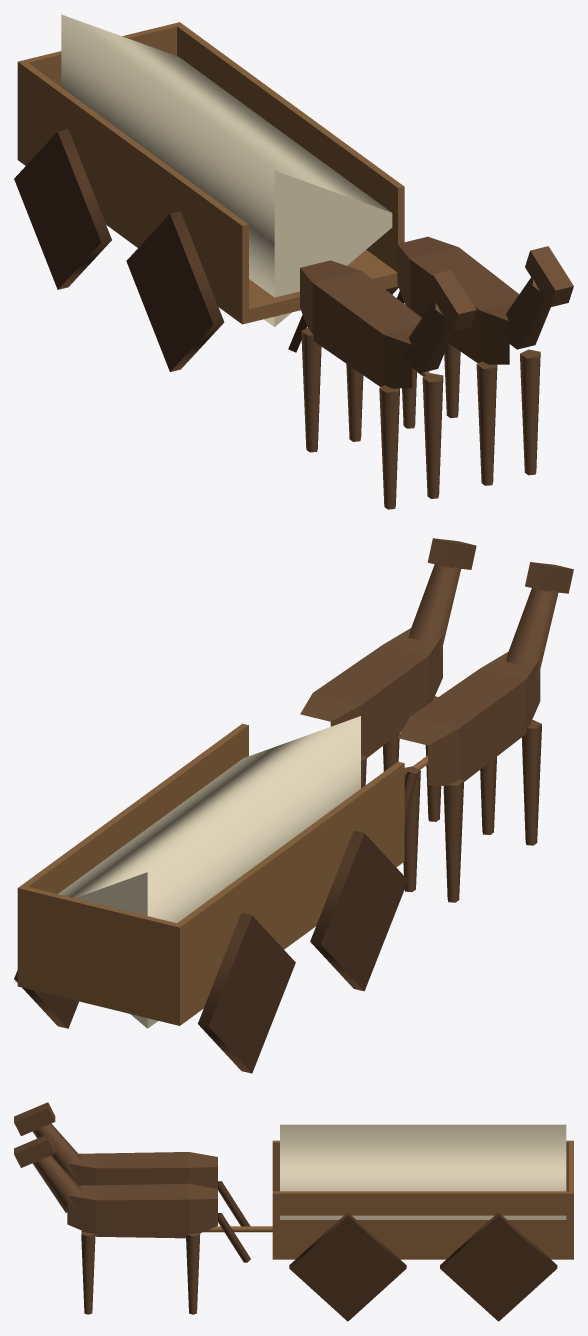
File: veh_ground_wagon_a03_lod2.glb
The picture shows the model from 3 angles, top to bottom: view 1: azimuth 30°, elevation 25°; view 2: azimuth 150°, elevation 25°; view 3: azimuth 270°, elevation 25°; orthographic projection. The views are drawn at different scales.
Parts seen in each view (by area): view 1: body, animal_0, animal_1, wheel_2, wheel_0; view 2: body, animal_0, animal_1, wheel_2, wheel_0, wheel_1; view 3: body, animal_1, animal_0, wheel_3, wheel_1.
Part boxes in pixels (<box>): body: <box>17,14,430,376</box>; animal_0: <box>288,260,476,509</box>; animal_1: <box>397,236,573,485</box>; wheel_2: <box>126,211,224,371</box>; wheel_0: <box>14,129,111,289</box>; body: <box>17,716,427,1028</box>; animal_0: <box>397,562,573,902</box>; animal_1: <box>300,538,476,821</box>; wheel_2: <box>310,830,407,991</box>; wheel_0: <box>198,912,295,1073</box>; wheel_1: <box>14,970,78,1028</box>; body: <box>203,1124,573,1259</box>; animal_1: <box>14,1134,250,1314</box>; animal_0: <box>14,1102,249,1226</box>; wheel_3: <box>289,1212,406,1321</box>; wheel_1: <box>440,1212,557,1321</box>.
Size of the model in its own units: 1.8 by 2.23 by 6.69.
